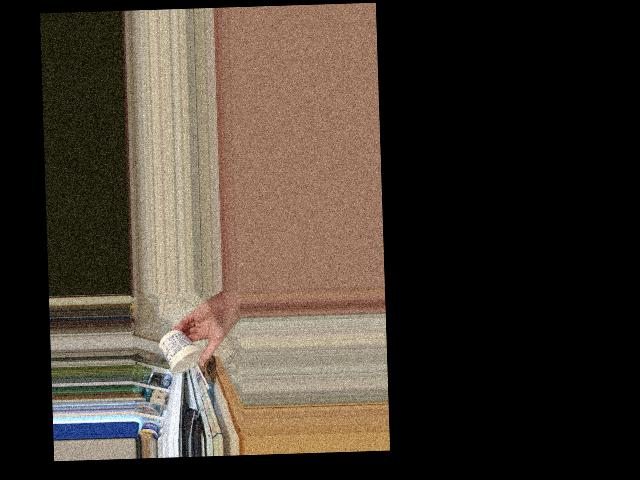cotage: (160, 330, 200, 375)
